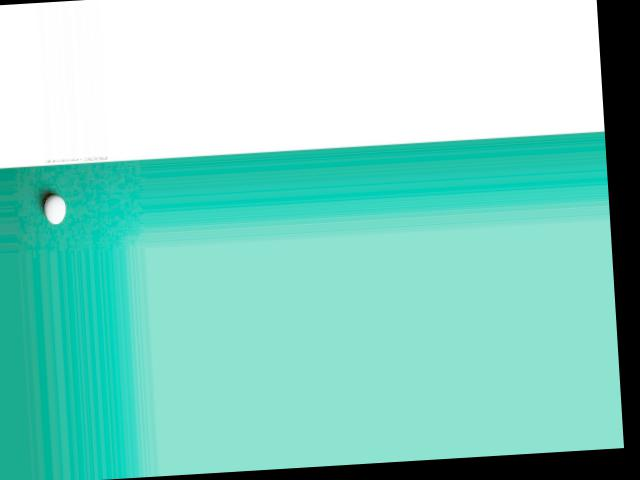egg: (44, 194, 67, 224)
